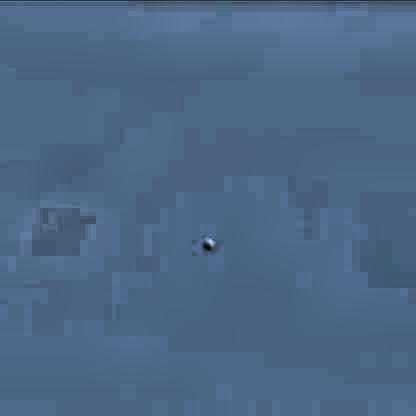golfball: (200, 234, 213, 250)
